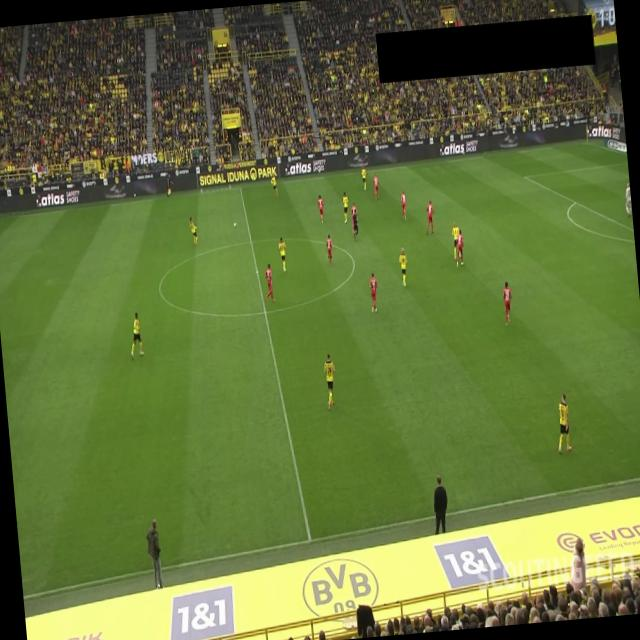ball: (233, 220, 237, 228)
player: (553, 392, 573, 454), (126, 310, 145, 360), (322, 352, 338, 411), (501, 280, 514, 325), (396, 245, 409, 288), (262, 261, 275, 303), (450, 220, 462, 263), (368, 270, 380, 312), (423, 198, 436, 234), (453, 228, 465, 266), (276, 235, 288, 273), (622, 181, 632, 217), (316, 194, 326, 224), (188, 216, 198, 246), (325, 233, 334, 266), (349, 202, 358, 234), (341, 190, 350, 222), (400, 190, 408, 220), (270, 174, 278, 198), (372, 172, 379, 199), (361, 164, 368, 190)
referee: (351, 208, 360, 242), (164, 172, 174, 198)
